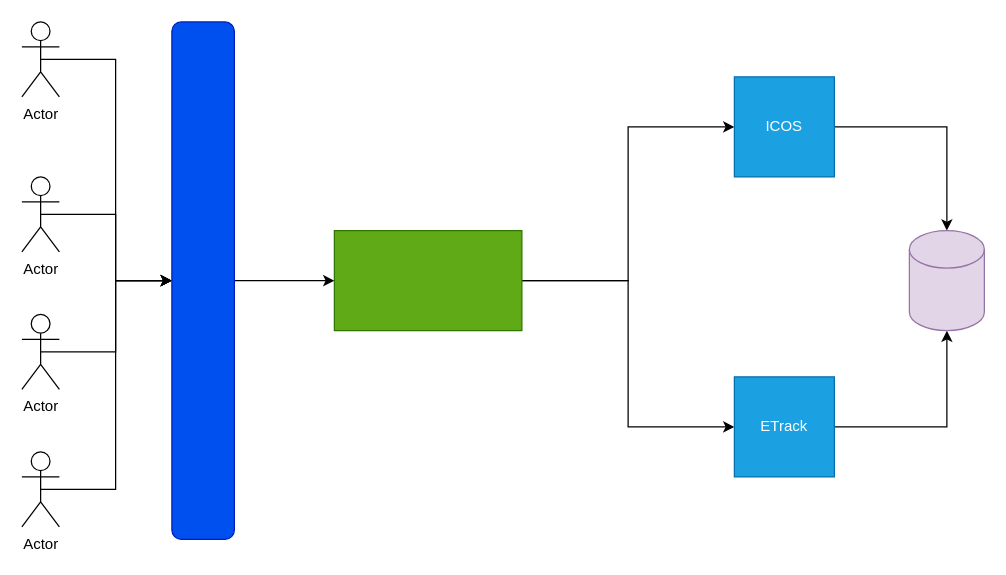
This 1006x575 diagram has some shape labels left out. Each missing label, with the centre of its shape:
"API Gateway" goes at point (427, 280).
"DB" goes at point (946, 280).
"load balancer" goes at point (202, 280).
